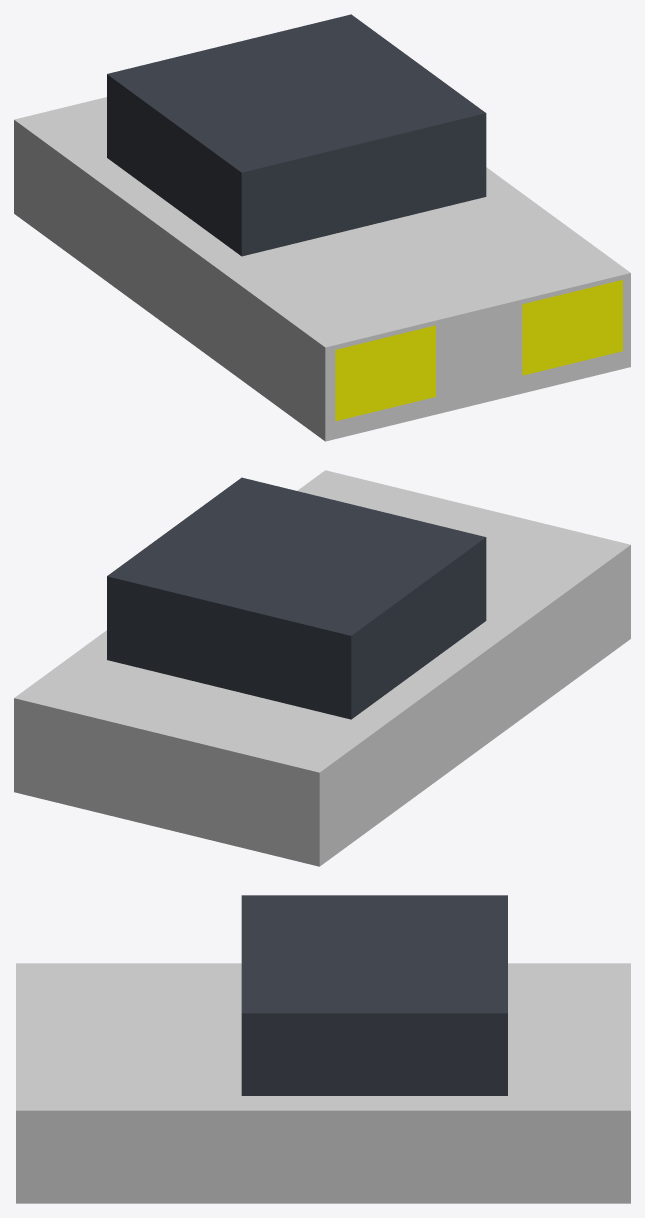
The model's file is carro_torcida_longe.glb.
The picture shows the model from 3 angles, top to bottom: view 1: azimuth 30°, elevation 25°; view 2: azimuth 150°, elevation 25°; view 3: azimuth 270°, elevation 25°; orthographic projection.
Parts seen in each view (by area): view 1: corpo, vidro, farol; view 2: corpo, vidro; view 3: corpo, vidro.
Part boxes in pixels (x1,y1,x2,y2): corpo: (14,97,630,441); vidro: (107,14,486,256); farol: (335,280,622,421); corpo: (14,470,630,866); vidro: (107,477,486,719); corpo: (16,963,630,1203); vidro: (241,895,507,1095).
Bounding box in the file's own units: 1.7 × 0.945 × 3.01.
